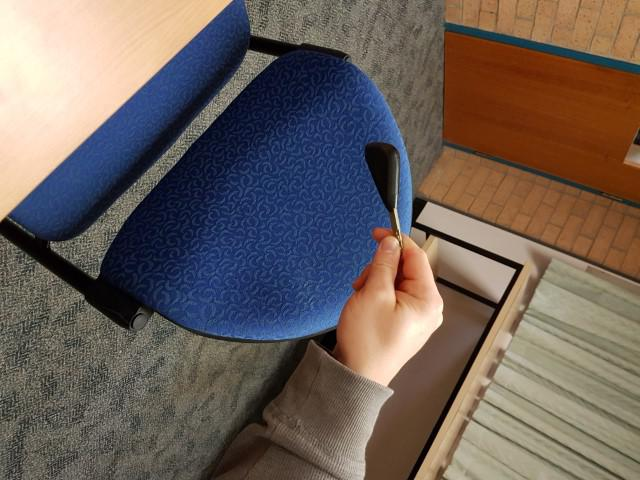key: (355, 138, 414, 252)
